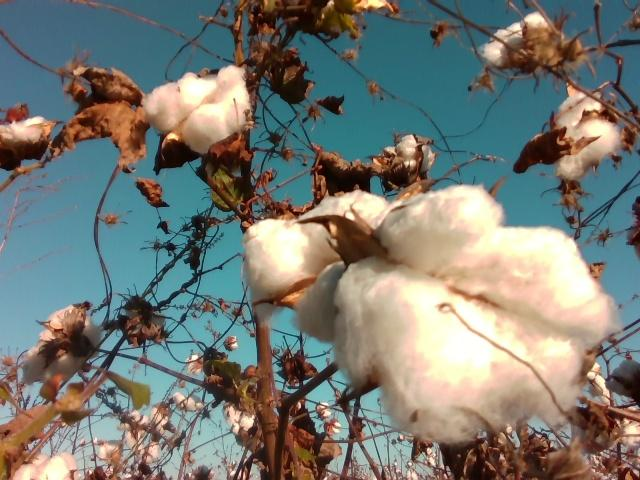cotton_ready: (242, 184, 622, 444), (142, 65, 251, 156), (20, 304, 101, 387), (557, 91, 624, 181), (477, 13, 555, 71), (371, 135, 437, 180), (12, 451, 77, 480), (0, 114, 54, 146)
